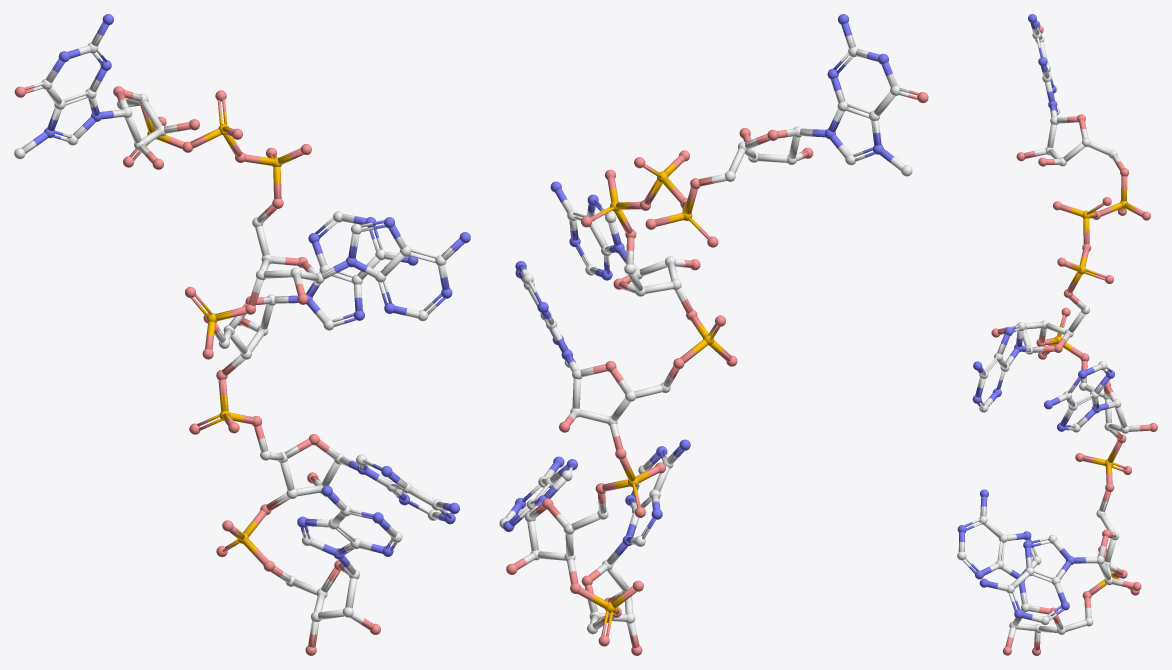
File: cap.glb
3 views of the same model, side by side, from view 1: azimuth 30°, elevation 25°; view 2: azimuth 150°, elevation 25°; view 3: azimuth 270°, elevation 25° (orthographic). The views are drawn at different scales.
Parts seen in each view (by area): view 1: CAP; view 2: CAP; view 3: CAP.
Part boxes in pixels (bbox=[...]): CAP: bbox=[14, 14, 470, 655]; CAP: bbox=[499, 14, 928, 655]; CAP: bbox=[957, 14, 1157, 655].
Size of the model in its own units: 19.68 by 30.52 by 9.91.
